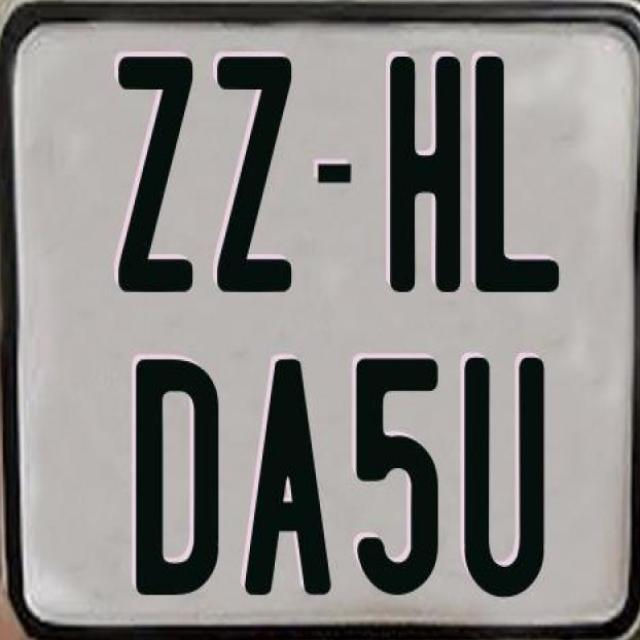license-plate: (4, 6, 629, 640)
